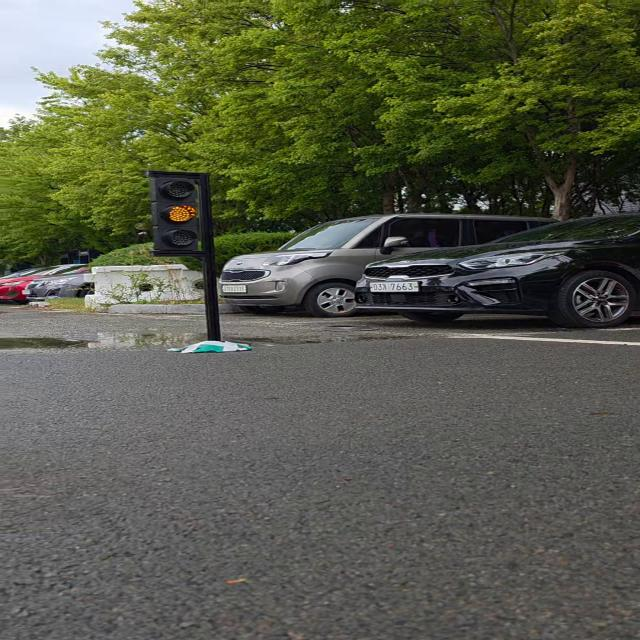yellow: (142, 168, 221, 260)
